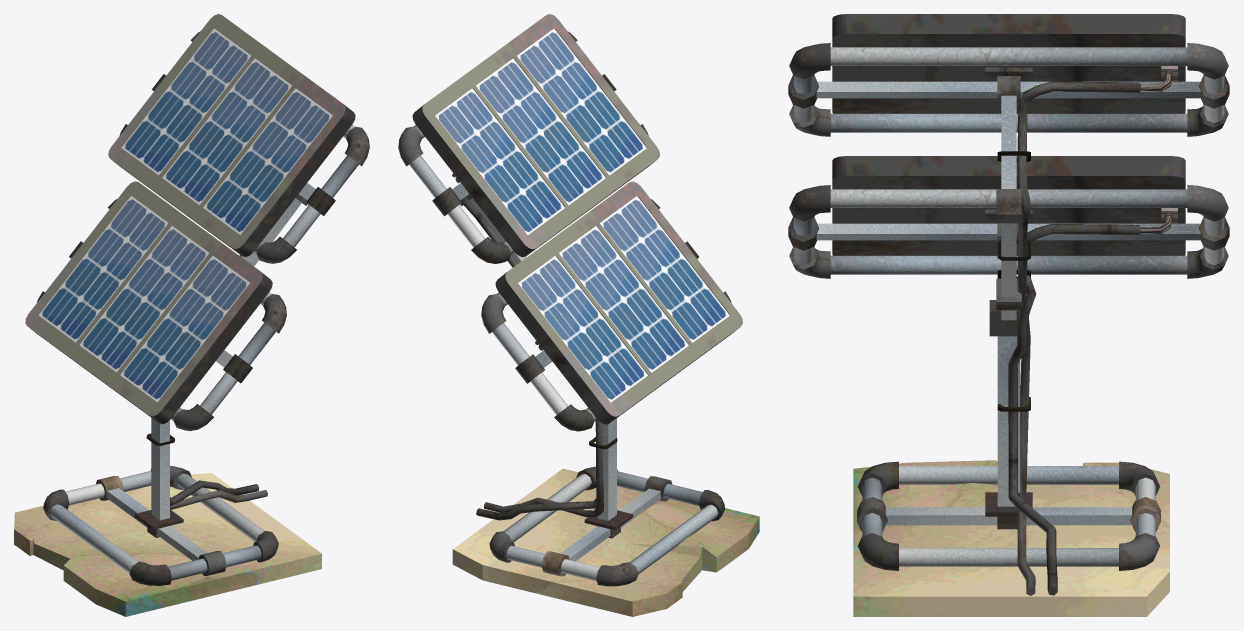
File: solarStation1-2.glb
The picture shows the model from 3 angles, left to right: view 1: azimuth 30°, elevation 25°; view 2: azimuth 150°, elevation 25°; view 3: azimuth 270°, elevation 25°; orthographic projection. The views are drawn at different scales.
Parts seen in each view (by area): view 1: solarPanel, solarPanel.001, foundation.003, solarPanel.002, solarStand, wire.019, wire.020; view 2: solarPanel, solarPanel.001, foundation.003, solarPanel.002, wire.019, solarStand, wire.020; view 3: solarPanel.001, solarPanel, foundation.003, solarPanel.002, solarStand, wire.019, wire.020, wireTies.
Boxes of the visible parts, box(x1,y1,x2,y2) form: solarPanel: box(25, 181, 286, 430); solarPanel.001: box(108, 14, 369, 263); foundation.003: box(14, 473, 321, 616); solarPanel.002: box(43, 466, 278, 585); solarStand: box(151, 194, 307, 520); wire.019: box(170, 255, 267, 509); wire.020: box(170, 480, 259, 505); solarPanel: box(481, 181, 742, 431); solarPanel.001: box(398, 14, 659, 263); foundation.003: box(452, 468, 759, 616); solarPanel.002: box(489, 466, 724, 586); wire.019: box(461, 195, 603, 517); solarStand: box(460, 194, 616, 520); wire.020: box(476, 424, 597, 520); solarPanel.001: box(788, 14, 1229, 136); solarPanel: box(788, 156, 1229, 278); foundation.003: box(853, 460, 1169, 616); solarPanel.002: box(857, 461, 1160, 570); solarStand: box(989, 95, 1021, 506); wire.019: box(1017, 81, 1140, 595); wire.020: box(1008, 224, 1140, 595); wireTies: box(997, 151, 1030, 411).
Size of the model in its own units: 1.15 by 1.98 by 1.29.
Materials: 2 (2 with a texture image).
